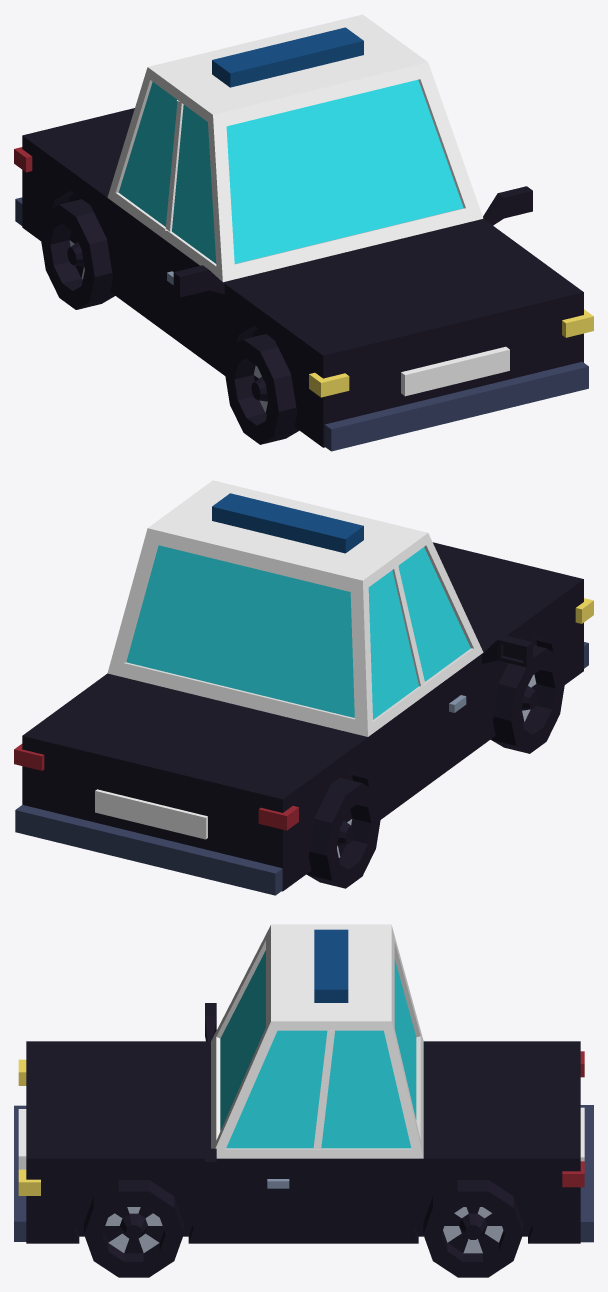
The model's file is car2.fbx.
3 views of the same model, one above another, from view 1: azimuth 30°, elevation 25°; view 2: azimuth 150°, elevation 25°; view 3: azimuth 270°, elevation 25° (orthographic). The views are drawn at different scales.
Visible parts, largest first — view 1: car -police; view 2: car -police; view 3: car -police.
Part boxes in pixels (x1=…): car -police: x1=14, y1=14, x2=593, y2=451; car -police: x1=14, y1=480, x2=593, y2=895; car -police: x1=14, y1=924, x2=593, y2=1277.
Size of the model in its own units: 2.71 by 2.02 by 4.18.
